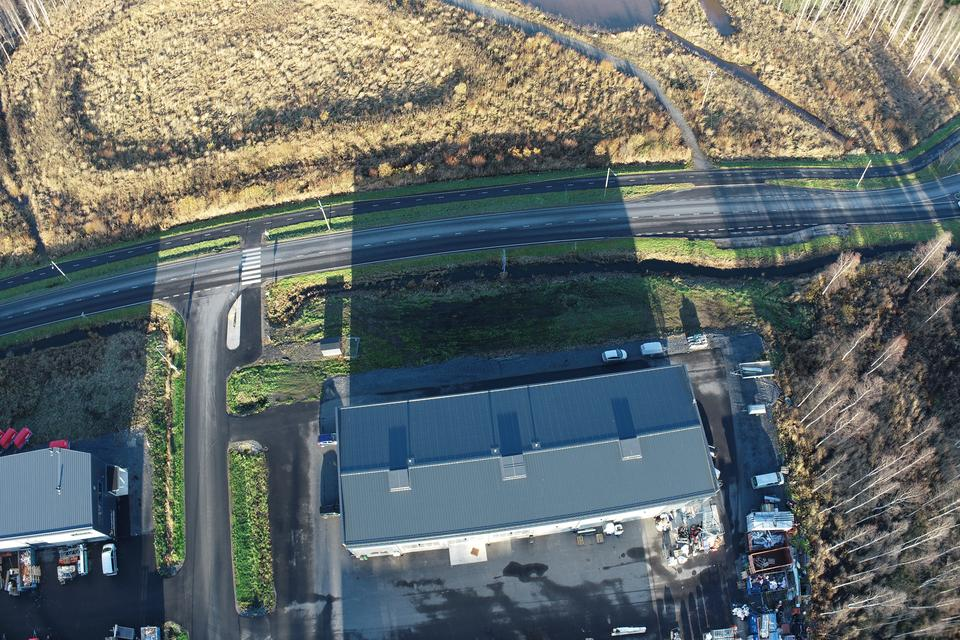intersection: (158, 195, 275, 374), (676, 133, 752, 258)
